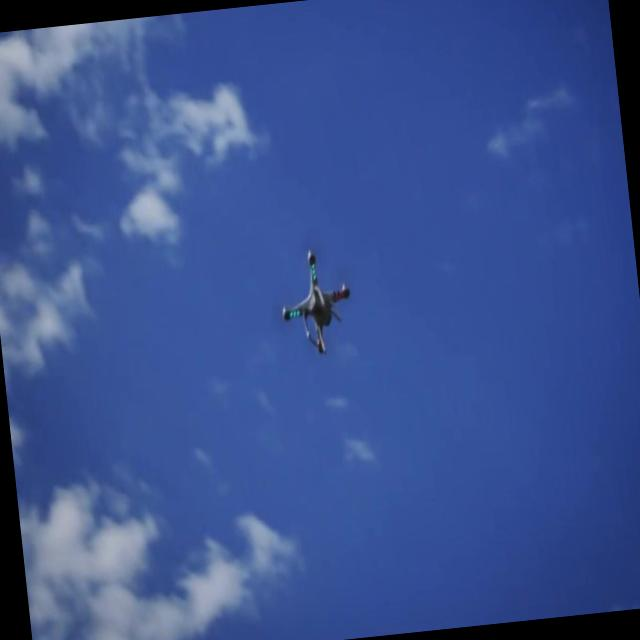drone: (275, 243, 358, 359)
